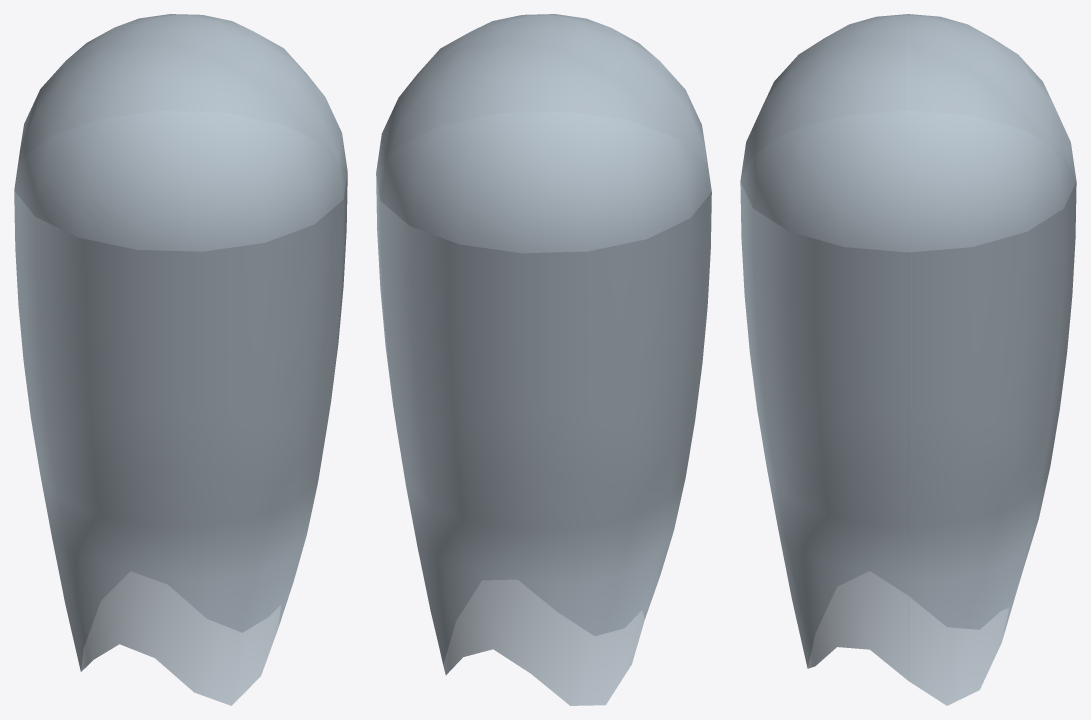
Rendered from ghost.glb.
3 views of the same model, side by side, from view 1: azimuth 30°, elevation 25°; view 2: azimuth 150°, elevation 25°; view 3: azimuth 270°, elevation 25° (orthographic).
Visible parts, largest first — view 1: Ghost; view 2: Ghost; view 3: Ghost.
Part boxes in pixels (left/top/right/bottom): Ghost: left=14, top=14, right=347, bottom=705; Ghost: left=376, top=14, right=711, bottom=705; Ghost: left=740, top=14, right=1076, bottom=705.
Size of the model in its own units: 0.2 by 0.42 by 0.2.
